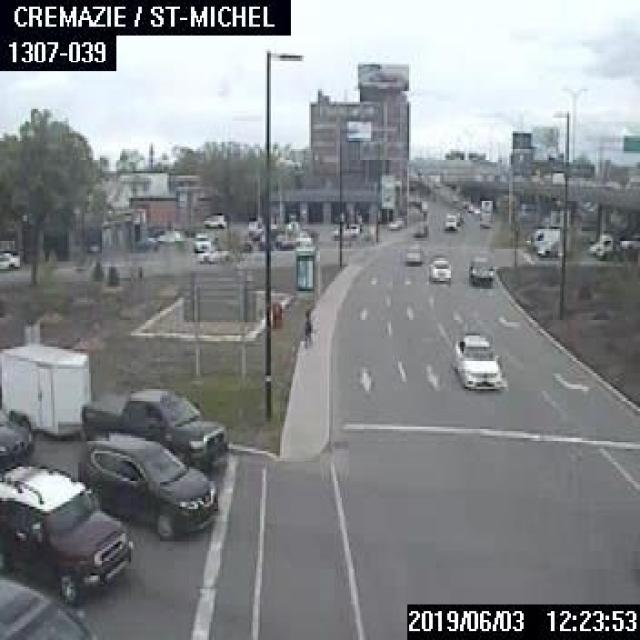pedestrian: (300, 304, 311, 348)
vehicle: (0, 341, 225, 470), (0, 462, 131, 602), (76, 432, 218, 537), (0, 575, 96, 637), (449, 329, 502, 387), (0, 406, 31, 466), (594, 234, 638, 258), (464, 249, 494, 284), (524, 225, 560, 249), (193, 246, 230, 262), (536, 239, 571, 255), (427, 256, 449, 280), (332, 221, 359, 237), (157, 228, 183, 244), (479, 196, 492, 227), (404, 242, 422, 264), (202, 212, 226, 227), (134, 236, 158, 250), (0, 251, 18, 269), (442, 209, 458, 229), (194, 232, 209, 250), (413, 222, 427, 236)
